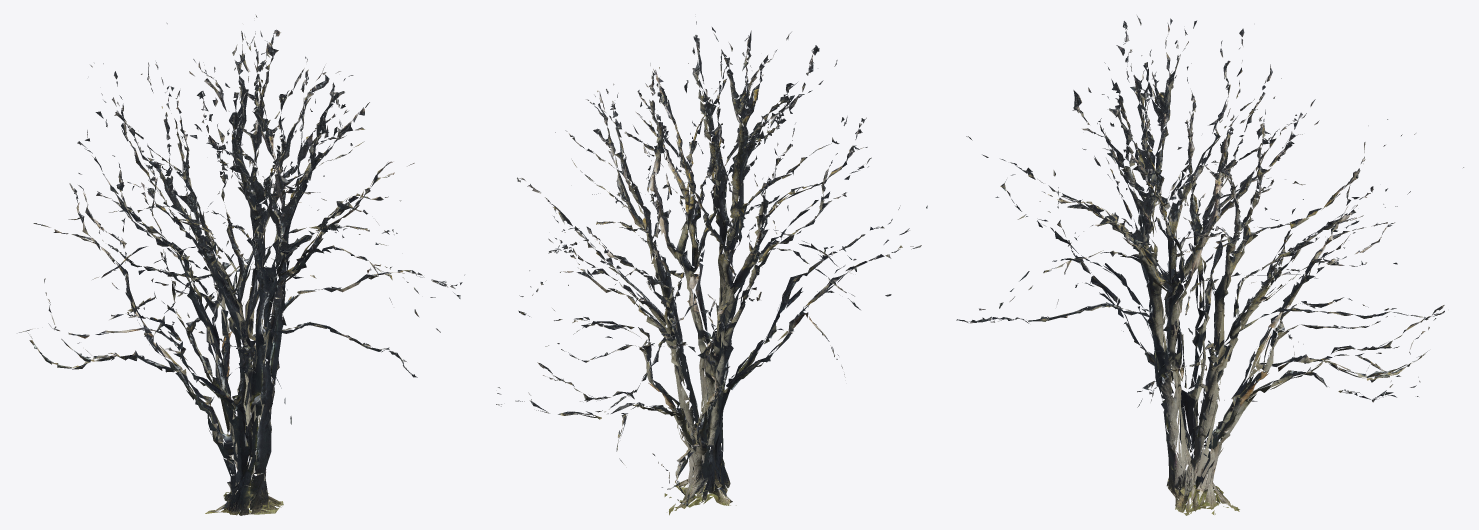
File: tree_bare_scan.glb
3 renders of one model, left to right at view 1: azimuth 30°, elevation 25°; view 2: azimuth 150°, elevation 25°; view 3: azimuth 270°, elevation 25°, orthographic. The views are drawn at different scales.
Visible parts, largest first — view 1: Object_2, Object_3, Object_4; view 2: Object_2, Object_3, Object_4; view 3: Object_3, Object_2, Object_4.
Part boxes in pixels (x1,y1,x2,y2): Object_2: [68, 14, 464, 515]; Object_3: [17, 31, 440, 512]; Object_4: [28, 31, 414, 493]; Object_2: [496, 30, 818, 505]; Object_3: [640, 21, 927, 510]; Object_4: [615, 63, 691, 515]; Object_3: [956, 16, 1387, 515]; Object_2: [1008, 39, 1463, 512]; Object_4: [1086, 70, 1436, 514].
Bounding box in the file's own units: 2.33 × 2.86 × 2.82.
Materials: 1 (1 with a texture image).
